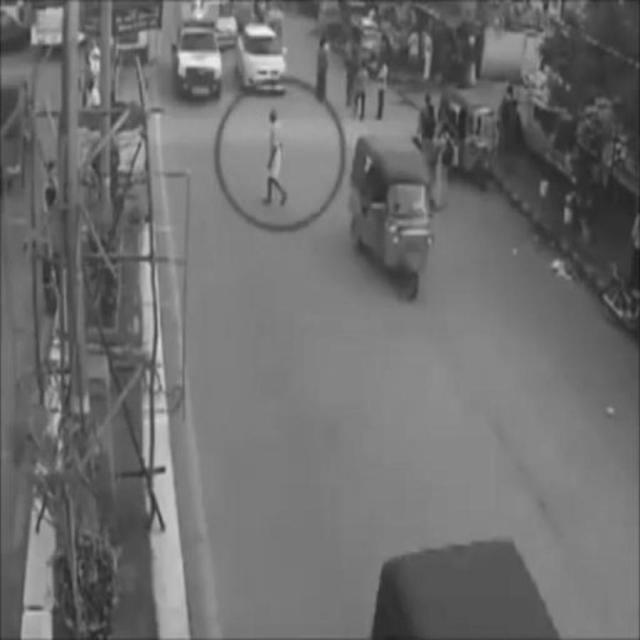person: (257, 107, 291, 208), (419, 92, 437, 162), (317, 32, 332, 112), (353, 62, 368, 122), (374, 62, 389, 116)
vehicle: (353, 133, 434, 303), (443, 92, 500, 188), (235, 20, 287, 94), (179, 19, 223, 99)
